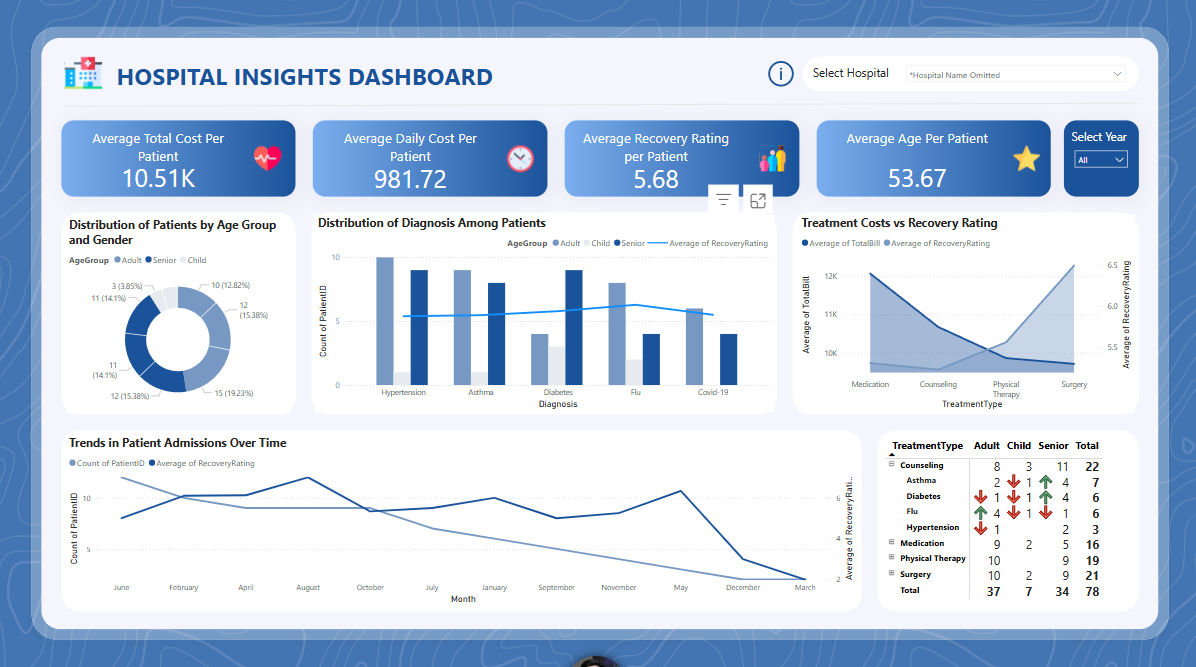

The dashboard page shown, as its layout file describes it:
{"tool":"powerbi","page":{"name":"Hospital Insights Dahboard","canvas":[1920,1080],"ordinal":0},"visuals":[{"type":"textbox","box":[175.5,97.7,680.4,72.4],"z":1000},{"type":"donutChart","title":"Distribution of Patients by Age Group and Gender","fields":{"Category":["Sheet1.AgeGroup"],"Y":["CountNonNull(Sheet1.Age)"],"Series":["Sheet1.Gender"]},"box":[110.3,351.2,359.2,316.2],"z":3000},{"type":"lineClusteredColumnComboChart","title":"Distribution of Diagnosis Among Patients","fields":{"Category":["Sheet1.Diagnosis"],"Y":["CountNonNull(Sheet1.PatientID)"],"Y2":["Avg(Sheet1 (2).RecoveryRating)"],"Series":["Sheet1.AgeGroup"]},"box":[508.1,350.7,735.9,316.3],"z":4000},{"type":"areaChart","title":"Treatment Costs vs Recovery Rating","fields":{"Category":["Sheet1 (2).TreatmentType"],"Y":["Avg(Sheet1.TotalBill)"],"Y2":["Avg(Sheet1 (2).RecoveryRating)"]},"box":[1281.5,350.7,538.1,316.3],"z":5000},{"type":"pivotTable","fields":{"Rows":["Sheet1 (2).TreatmentType","Sheet1.Diagnosis"],"Columns":["Sheet1.AgeGroup"],"Values":["CountNonNull(Sheet1.PatientID)"]},"box":[1416.4,703,403.2,275.8],"z":6000},{"type":"lineChart","title":"Trends in Patient Admissions Over Time","fields":{"Y":["CountNonNull(Sheet1.PatientID)"],"Category":["Sheet1.Month"],"Y2":["Avg(Sheet1 (2).RecoveryRating)"]},"box":[110.9,703,1266.5,275.8],"z":7000},{"type":"card","title":"Average Total Cost Per Patient","fields":{"Values":["Avg(Sheet1.TotalBill)"]},"box":[139.4,211.3,235.3,101.9],"z":8000},{"type":"card","title":"Average Daily Cost Per Patient","fields":{"Values":["Avg(Sheet1 (2).DailyCost)"]},"box":[545.6,211.3,230.8,101.9],"z":9000},{"type":"card","title":"Average Recovery Rating per Patient","fields":{"Values":["Avg(Sheet1 (2).RecoveryRating)"]},"box":[923.3,211.3,260.8,101.9],"z":10000},{"type":"card","title":"Average Age Per Patient","fields":{"Values":["Avg(Sheet1.Age)"]},"box":[1353.4,211.3,236.8,125.9],"z":11000},{"type":"slicer","title":"Select Hospital","fields":{"Values":["Sheet1 (2).Hospital"]},"box":[1443.4,100.4,371.7,46.5],"z":12000},{"type":"slicer","title":"Select Year","fields":{"Values":["Sheet1.Year"]},"box":[1714.7,211.3,104.9,71.9],"z":13000},{"type":"textbox","box":[1301,104.9,142.4,39],"z":14000},{"type":"actionButton","box":[1227.8,97.4,54,53.1],"z":17000},{"type":"card","fields":{"Values":["Sum(Sheet1.Age)"]},"box":[1227.8,101.8,54,46],"z":17500}]}

Visuals, with their boxes in screenshot pixels (x1, y1, x2, y2), scaled from the page's 1920x1080 canvas onto the 1196x667 screenshot:
textbox: detection(109, 60, 533, 105)
"Distribution of Patients by Age Group and Gender" donutChart: detection(69, 217, 292, 412)
"Distribution of Diagnosis Among Patients" lineClusteredColumnComboChart: detection(317, 217, 775, 412)
"Treatment Costs vs Recovery Rating" areaChart: detection(798, 217, 1133, 412)
pivotTable - Sheet1 (2).TreatmentType x Sheet1.Diagnosis: detection(882, 434, 1133, 604)
"Trends in Patient Admissions Over Time" lineChart: detection(69, 434, 858, 604)
"Average Total Cost Per Patient" card: detection(87, 130, 233, 193)
"Average Daily Cost Per Patient" card: detection(340, 130, 484, 193)
"Average Recovery Rating per Patient" card: detection(575, 130, 738, 193)
"Average Age Per Patient" card: detection(843, 130, 991, 208)
"Select Hospital" slicer: detection(899, 62, 1131, 91)
"Select Year" slicer: detection(1068, 130, 1133, 175)
textbox: detection(810, 65, 899, 89)
actionButton: detection(765, 60, 798, 93)
card - Sum(Sheet1.Age): detection(765, 63, 798, 91)
